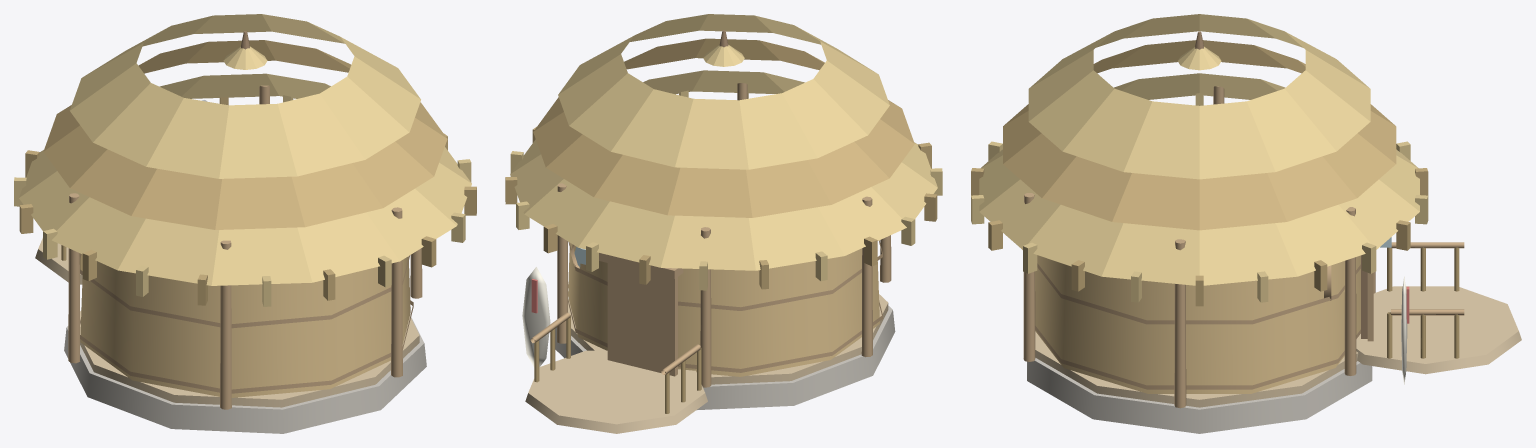
The model's file is house_thatch.glb.
The picture shows the model from 3 angles, left to right: view 1: azimuth 30°, elevation 25°; view 2: azimuth 150°, elevation 25°; view 3: azimuth 270°, elevation 25°; orthographic projection. The views are drawn at different scales.
Visible parts, largest first — view 1: house_thatch; view 2: house_thatch; view 3: house_thatch.
Part boxes in pixels (x1,y1,x2,y2): house_thatch: [14, 14, 476, 433]; house_thatch: [505, 14, 942, 433]; house_thatch: [971, 14, 1521, 433].
Bounding box in the file's own units: 7.54 × 5.87 × 9.02.
